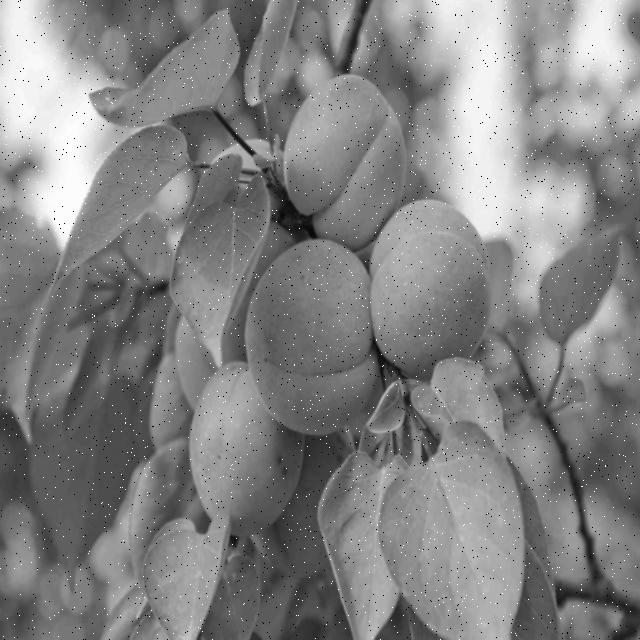kayisi: (260, 267, 377, 412), (388, 202, 486, 352), (286, 80, 388, 224), (206, 386, 288, 533), (167, 288, 251, 382), (300, 430, 346, 571)
yaprak: (418, 441, 525, 608), (50, 380, 139, 542), (74, 153, 175, 245), (0, 191, 58, 327), (420, 375, 516, 454), (569, 252, 640, 348), (97, 78, 245, 122), (202, 177, 254, 297), (342, 474, 394, 571), (158, 530, 230, 598), (257, 4, 305, 100)
